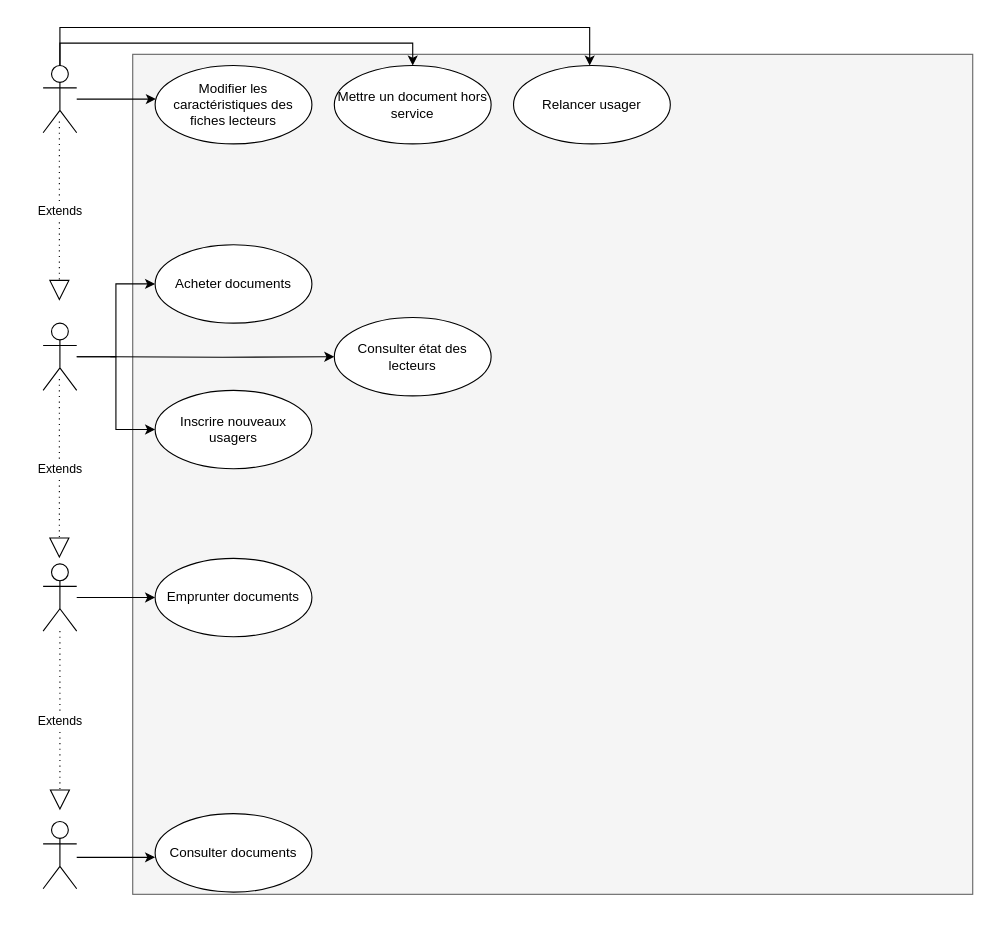
Some shapes in this 992 by 932 pixel diagram are drawn without their labels. The shapes that lost their labels are listed below. From the top down, each one's centre as x and y in pixels, then its label:
At (x=59, y=98): "Bibliothécaire".
At (x=59, y=356): "Employé".
At (x=59, y=597): "Bénévole".
At (x=59, y=854): "Usager".
